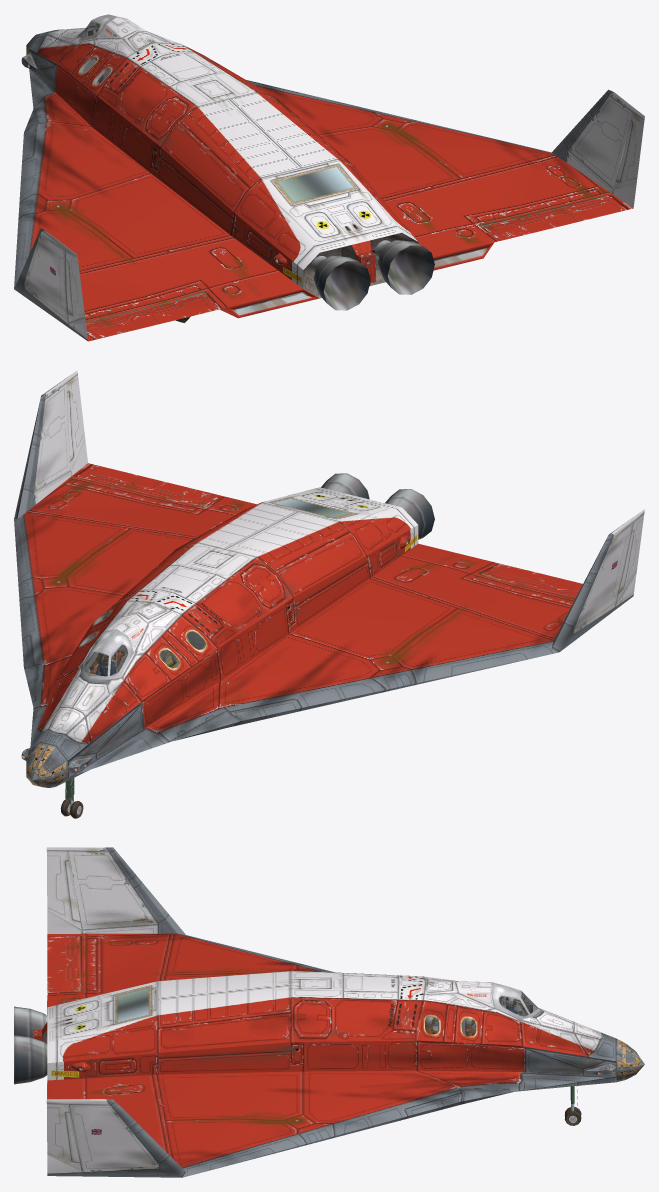
Rendered from deltaglider.obj.
3 views of the same model, one above another, from view 1: azimuth 30°, elevation 25°; view 2: azimuth 150°, elevation 25°; view 3: azimuth 270°, elevation 25° (orthographic). The views are drawn at different scales.
Visible parts, largest first — view 1: group42, group94, group98, RUAileron1, LUAileron1, Raddoor1, group104, group103, RRudder1, group102, LRudder2; view 2: group42, group94, RUAileron1, group98, LUAileron1, group121, RRudder1, group23, group104, group103, LRudder2, Raddoor1; view 3: group42, group94, group98, LUAileron1, LRudder1, RRudder2, Raddoor1, group121, group103, group23, group107, group104.
Part boxes in pixels (box(x1,y1,x2,y2)): group42: box(14, 68, 644, 341); group94: box(21, 17, 493, 318); group98: box(310, 240, 434, 310); RUAileron1: box(480, 195, 626, 240); LUAileron1: box(86, 292, 221, 339); Raddoor1: box(272, 165, 357, 204); group104: box(128, 248, 209, 283); group103: box(412, 182, 493, 210); RRudder1: box(613, 113, 644, 189); group102: box(303, 232, 418, 298); LRudder2: box(65, 252, 84, 322); group42: box(14, 370, 644, 777); group94: box(21, 487, 418, 786); RUAileron1: box(77, 464, 221, 507); group98: box(321, 473, 434, 539); LUAileron1: box(479, 563, 582, 598); group121: box(80, 611, 205, 676); RRudder1: box(66, 376, 84, 471); group23: box(80, 629, 133, 679); group104: box(412, 579, 493, 608); group103: box(128, 513, 209, 535); LRudder2: box(615, 514, 644, 604); Raddoor1: box(270, 498, 354, 518); group42: box(46, 847, 614, 1177); group94: box(33, 970, 616, 1098); group98: box(14, 1006, 47, 1084); LUAileron1: box(47, 936, 81, 993); LRudder1: box(47, 852, 82, 929); RRudder2: box(47, 1103, 82, 1171); Raddoor1: box(115, 986, 150, 1023); group121: box(425, 991, 538, 1036); group103: box(121, 1094, 155, 1126); group23: box(491, 982, 540, 1019); group107: box(91, 1128, 125, 1142); group104: box(121, 971, 155, 989).
Size of the model in its own units: 17.87 by 4.93 by 18.72.
Materials: 51 (47 with a texture image).
